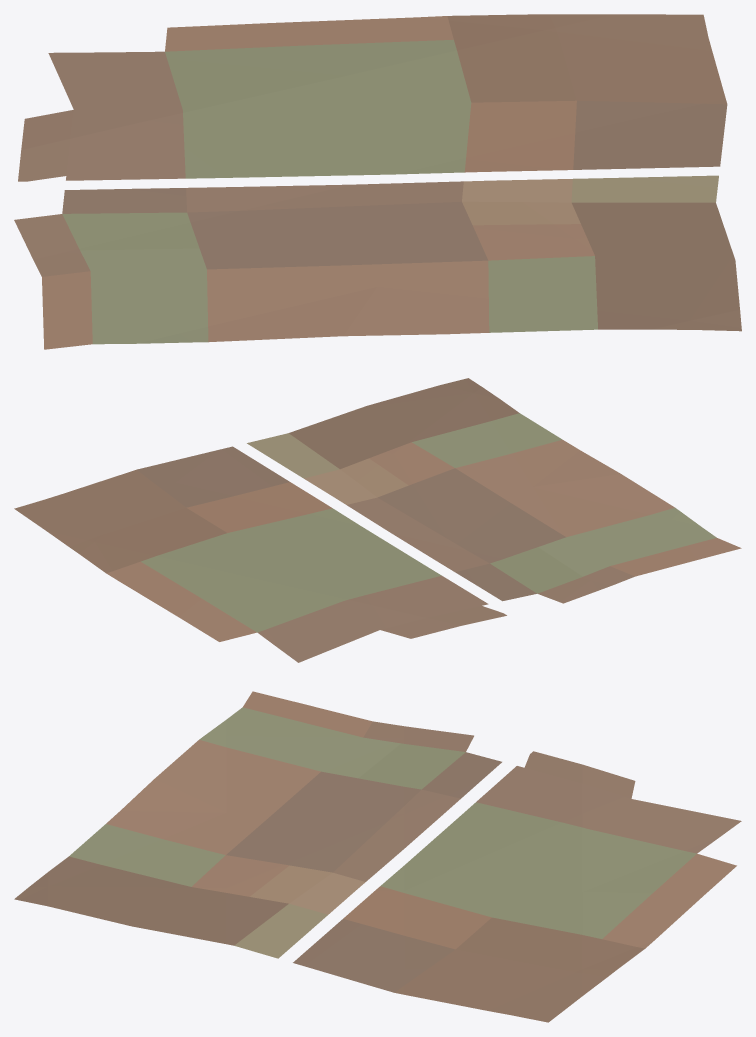
The model's file is farm_3_10_soil.glb.
3 renders of one model, top to bottom at view 1: azimuth 30°, elevation 25°; view 2: azimuth 150°, elevation 25°; view 3: azimuth 270°, elevation 25°, orthographic. The views are drawn at different scales.
Parts seen in each view (by area): view 1: geometry_0; view 2: geometry_0; view 3: geometry_0.
Boxes of the visible parts, x1,y1,x2,y2 form: geometry_0: (14,14,741,349); geometry_0: (14,378,741,662); geometry_0: (14,691,741,1022).
Size of the model in its own units: 343 by 5.57 by 327.
